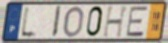0: (85, 5, 104, 38)
E: (125, 5, 148, 38)
H: (101, 5, 130, 39)
I: (50, 5, 62, 39)
L: (19, 4, 39, 40)
O: (62, 5, 85, 39)
